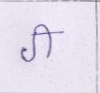i_matra: (36, 23, 55, 58)
